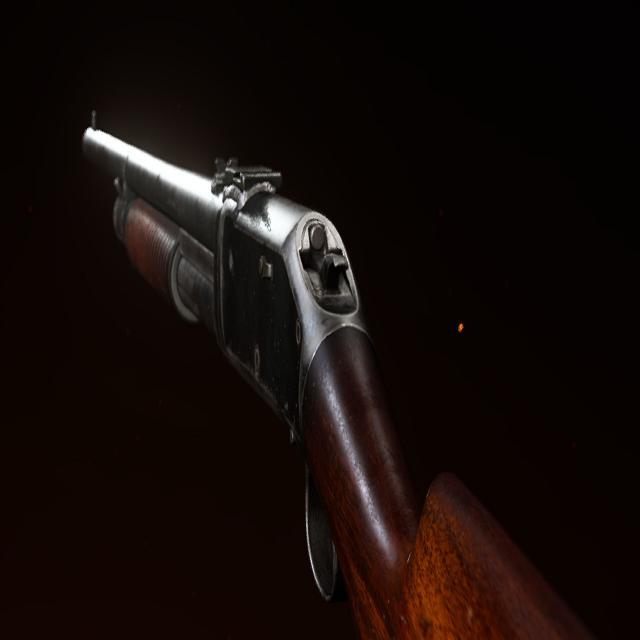shotgun: (73, 101, 608, 640)
